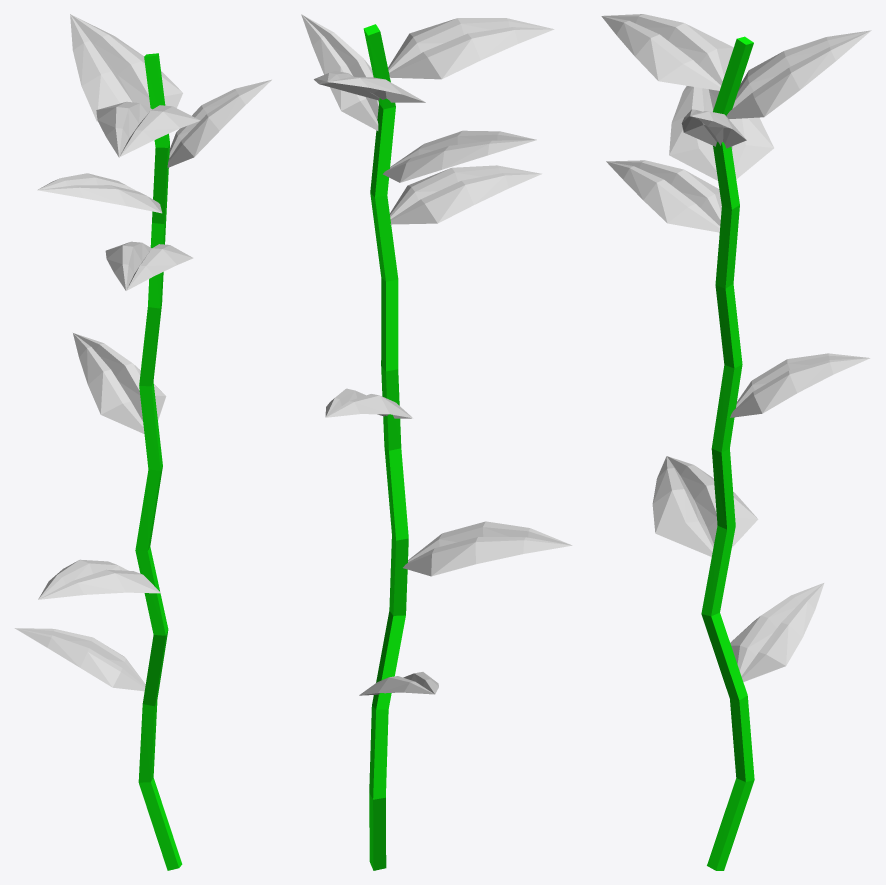
The model's file is grasBig_5.fbx.
3 views of the same model, side by side, from view 1: azimuth 30°, elevation 25°; view 2: azimuth 150°, elevation 25°; view 3: azimuth 270°, elevation 25° (orthographic). The views are drawn at different scales.
Visible parts, largest first — view 1: quickmaterial1; view 2: quickmaterial1; view 3: quickmaterial1.
Part boxes in pixels (bbox=[...]): quickmaterial1: bbox=[14, 14, 271, 870]; quickmaterial1: bbox=[301, 14, 572, 870]; quickmaterial1: bbox=[601, 14, 871, 870].
Bounding box in the file's own units: 0.3203 × 1.01 × 0.298.
